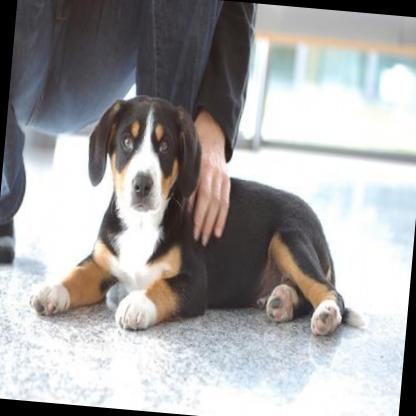EntleBucher: (29, 86, 384, 350)
